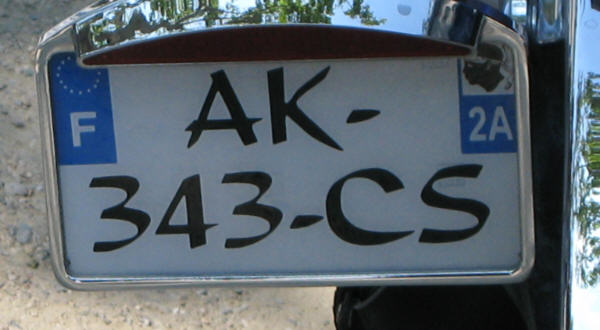license_plate: (36, 35, 533, 295)
